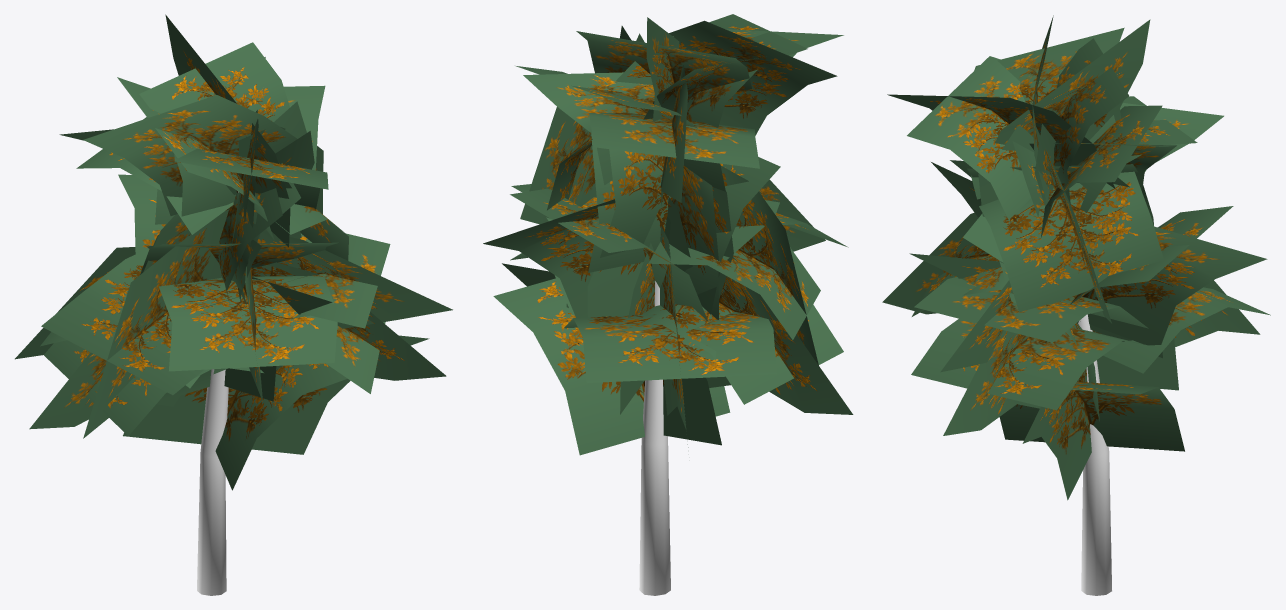
The model's file is ekasia_tree_high.glb.
3 renders of one model, left to right at view 1: azimuth 30°, elevation 25°; view 2: azimuth 150°, elevation 25°; view 3: azimuth 270°, elevation 25°, orthographic. The views are drawn at different scales.
Visible parts, largest first — view 1: ekasia.png__, stktex_generic_WoodB.png__; view 2: ekasia.png__, stktex_generic_WoodB.png__; view 3: ekasia.png__, stktex_generic_WoodB.png__.
Boxes of the visible parts, box(x1,y1,x2,y2) form: ekasia.png__: box(15, 14, 452, 490); stktex_generic_WoodB.png__: box(197, 192, 238, 595); ekasia.png__: box(483, 14, 853, 455); stktex_generic_WoodB.png__: box(639, 281, 670, 595); ekasia.png__: box(882, 15, 1270, 500); stktex_generic_WoodB.png__: box(1078, 314, 1111, 595).
Size of the model in its own units: 13.11 by 19.22 by 12.09.
Materials: 2 (1 with a texture image).
